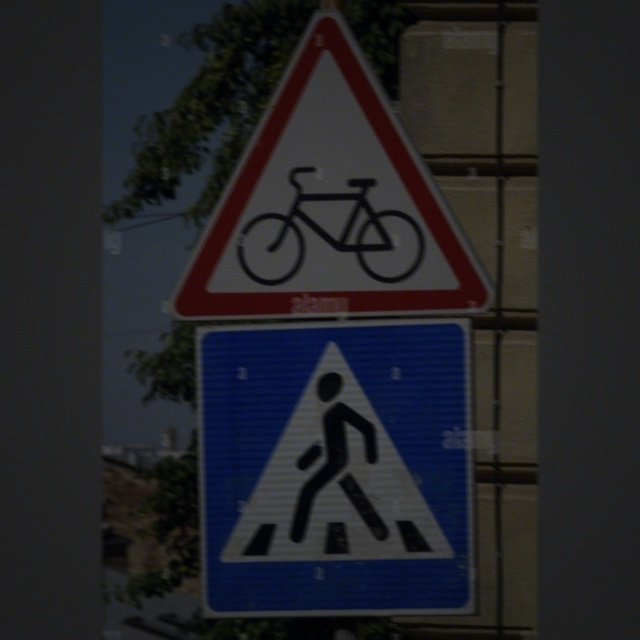Cycle_Crossing: (194, 22, 486, 310)
